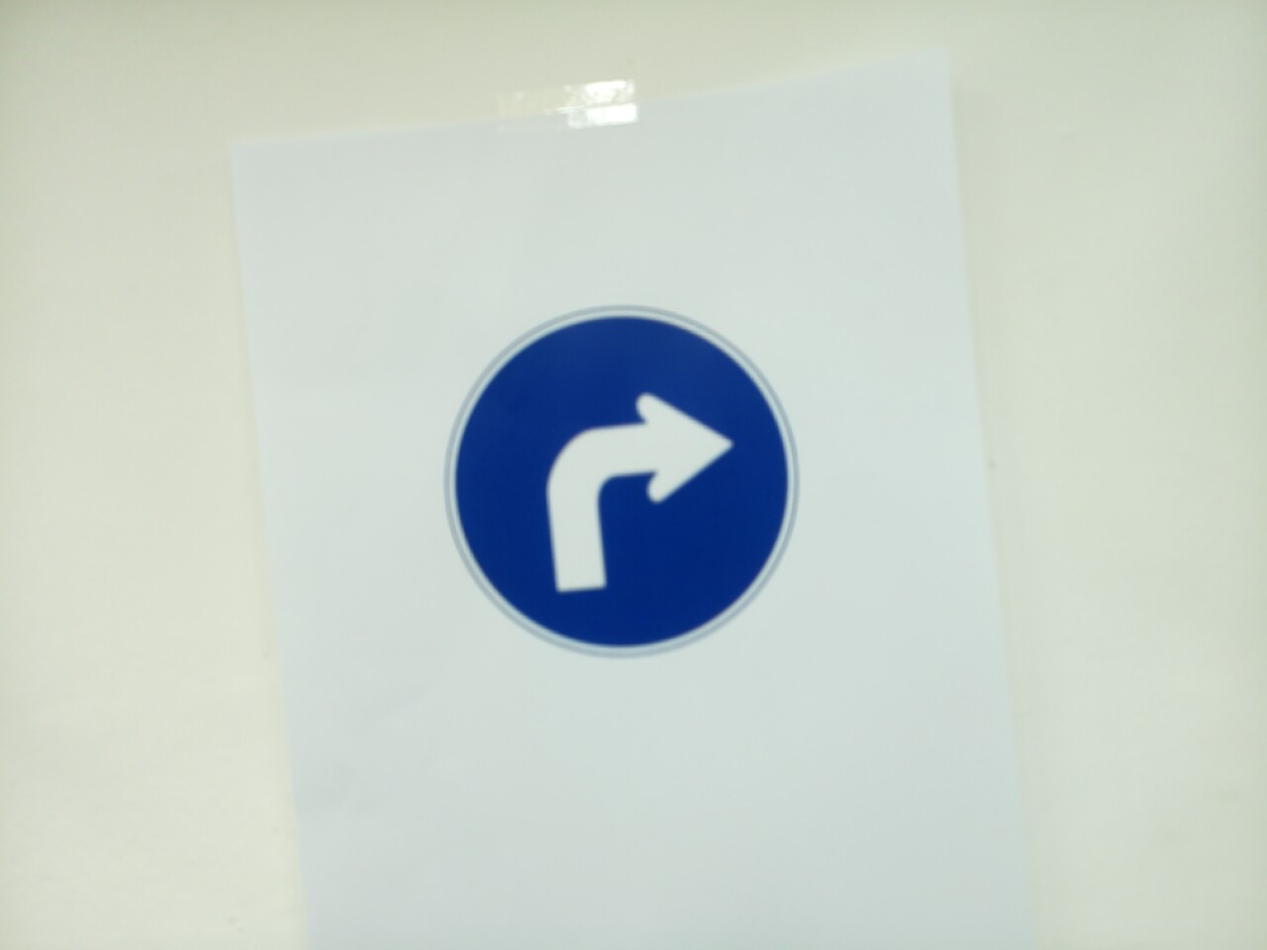right_turn: (445, 306, 798, 657)
